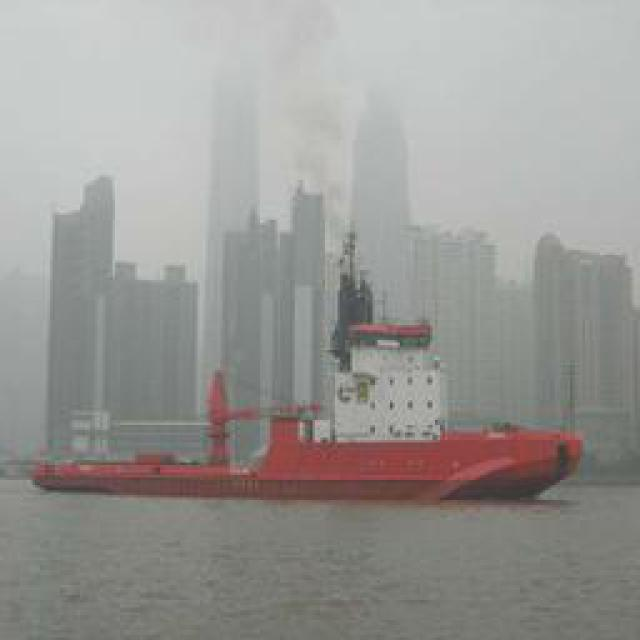Ship: (32, 413, 572, 501)
